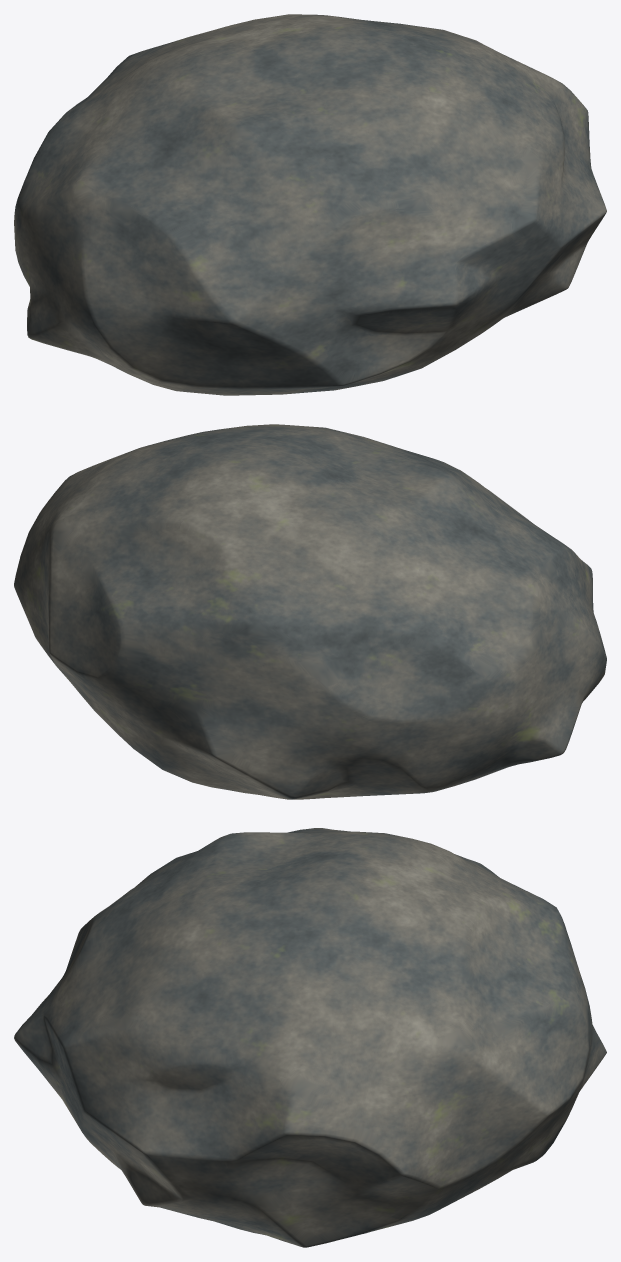
The model's file is WeatheredBoulder.fbx.
The picture shows the model from 3 angles, top to bottom: view 1: azimuth 30°, elevation 25°; view 2: azimuth 150°, elevation 25°; view 3: azimuth 270°, elevation 25°; orthographic projection. The views are drawn at different scales.
Parts seen in each view (by area): view 1: WeatheredBoulder; view 2: WeatheredBoulder; view 3: WeatheredBoulder.
Boxes of the visible parts, left/top/right/bottom form: WeatheredBoulder: left=14, top=14, right=606, bottom=395; WeatheredBoulder: left=14, top=424, right=606, bottom=799; WeatheredBoulder: left=14, top=828, right=606, bottom=1247.
Bounding box in the file's own units: 234 × 115 × 206.
Materials: 1 (1 with a texture image).
